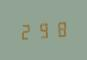eight: (51, 19, 66, 38)
nine: (35, 20, 50, 39)
two: (18, 21, 33, 40)
